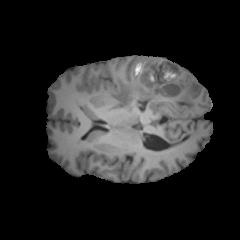glioma: (110, 57, 199, 111)
